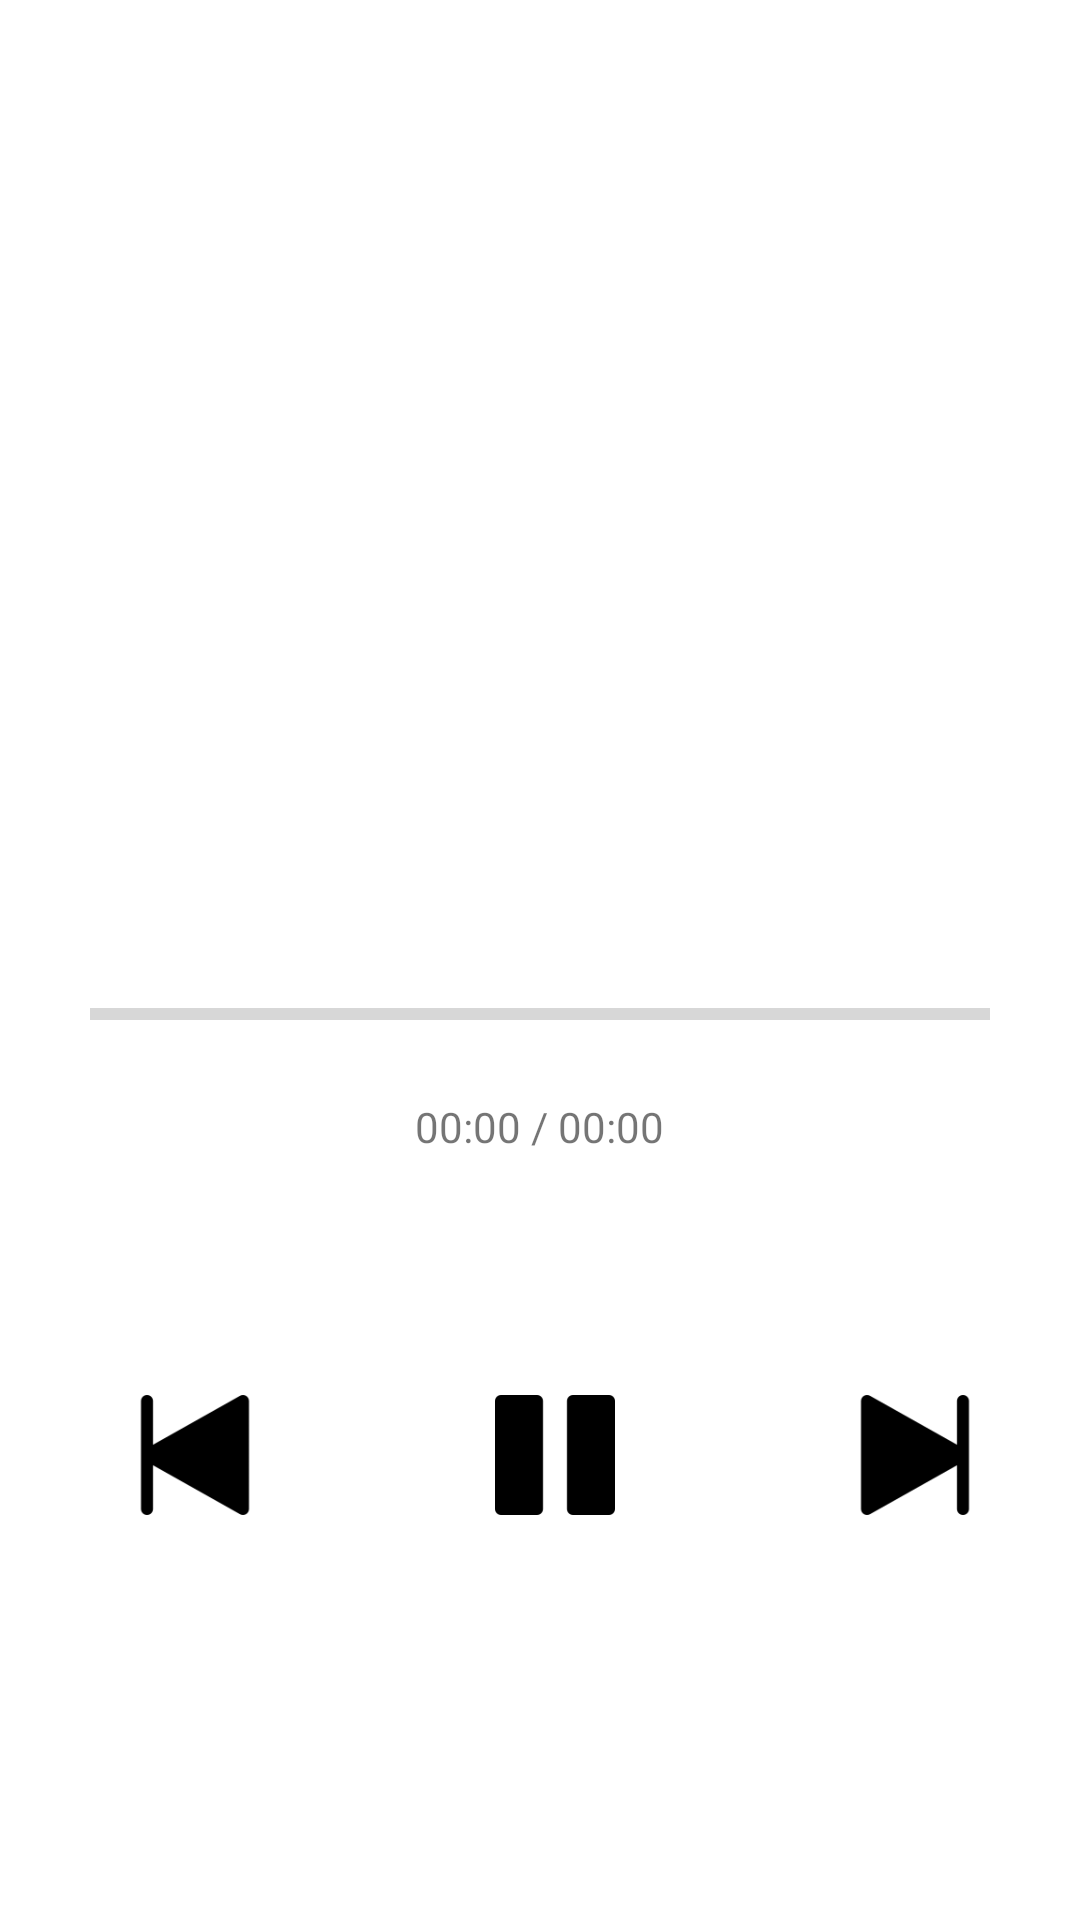

Named icons in this screenshot (1080×1920) and their bounding boxes, (x1, y1, x2, y2):
next: (860, 1395, 970, 1515)
pause: (495, 1395, 615, 1515)
previous: (140, 1395, 250, 1515)
